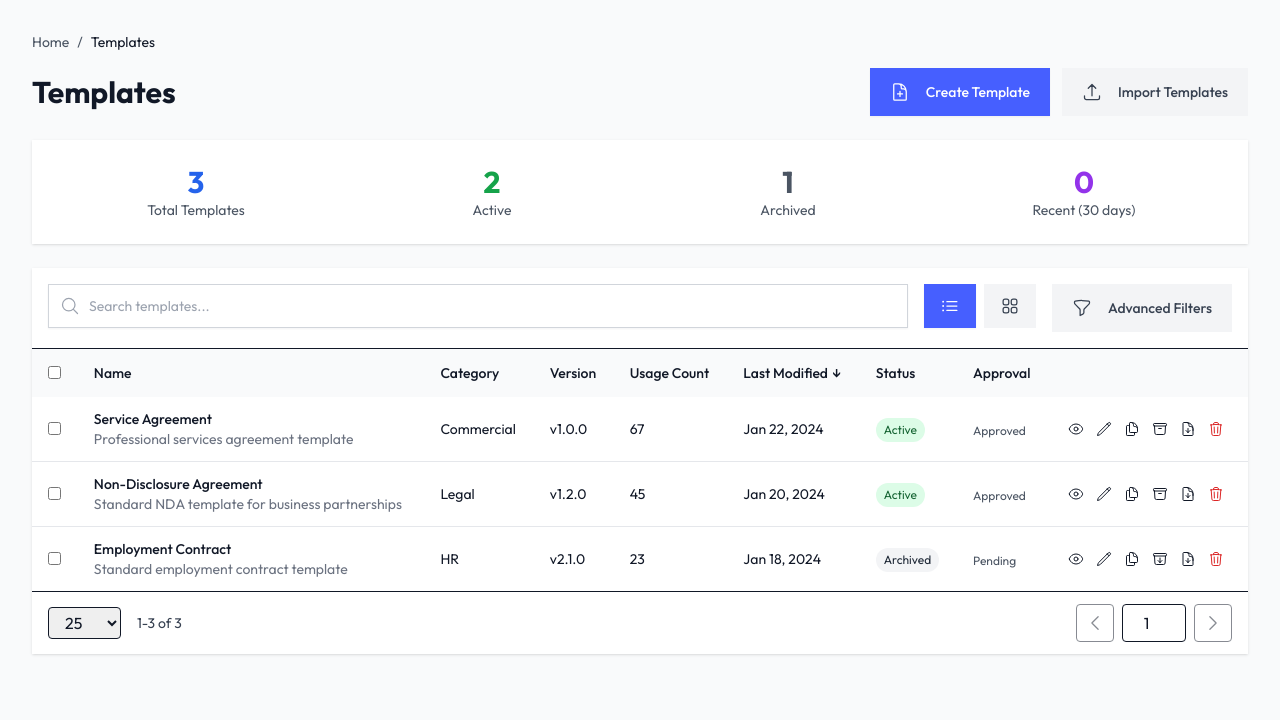
it: TemplatesListPage › Template Actions › shows clone dialog when Duplicate button is clicked
The image size is (1280, 720).
Click the button with test id "clone-template-template-1": [1132, 494] box [1120, 482, 1144, 506]
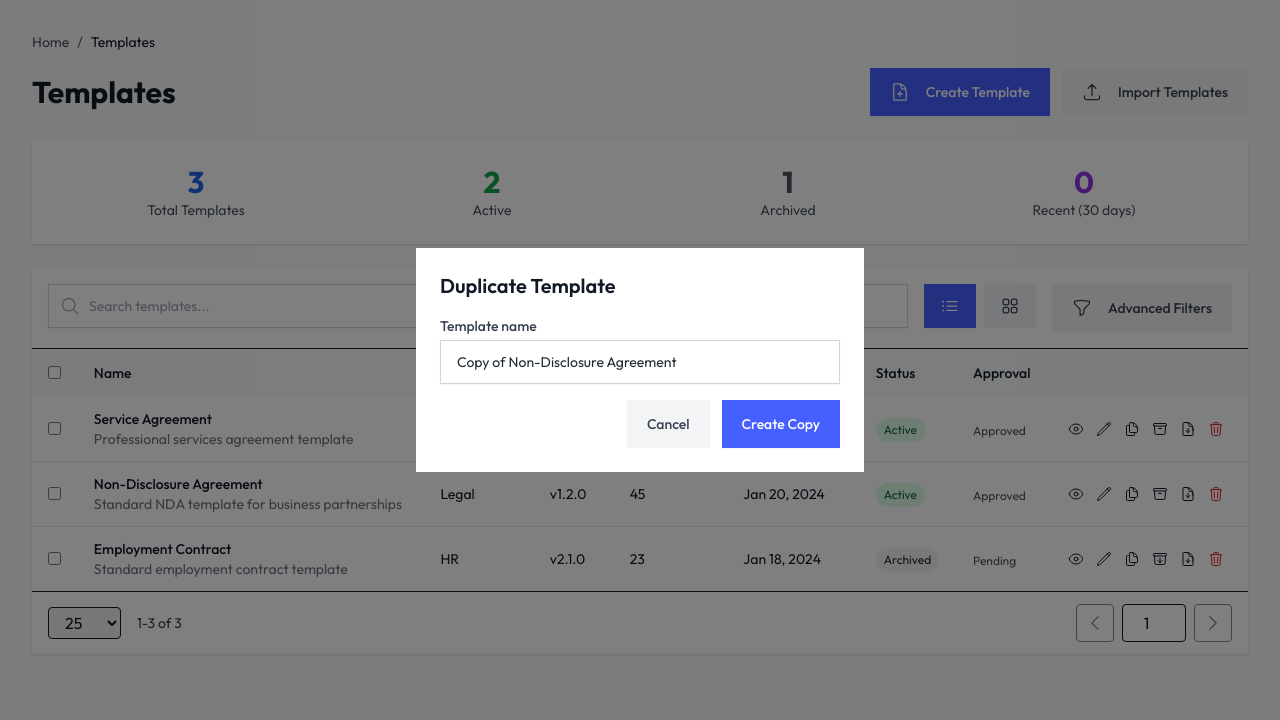
expect the heading "Duplicate Template" is shown: met, box [440, 273, 616, 298]
expect the field labelled "Template name" is shown: met, box [440, 340, 840, 384]
